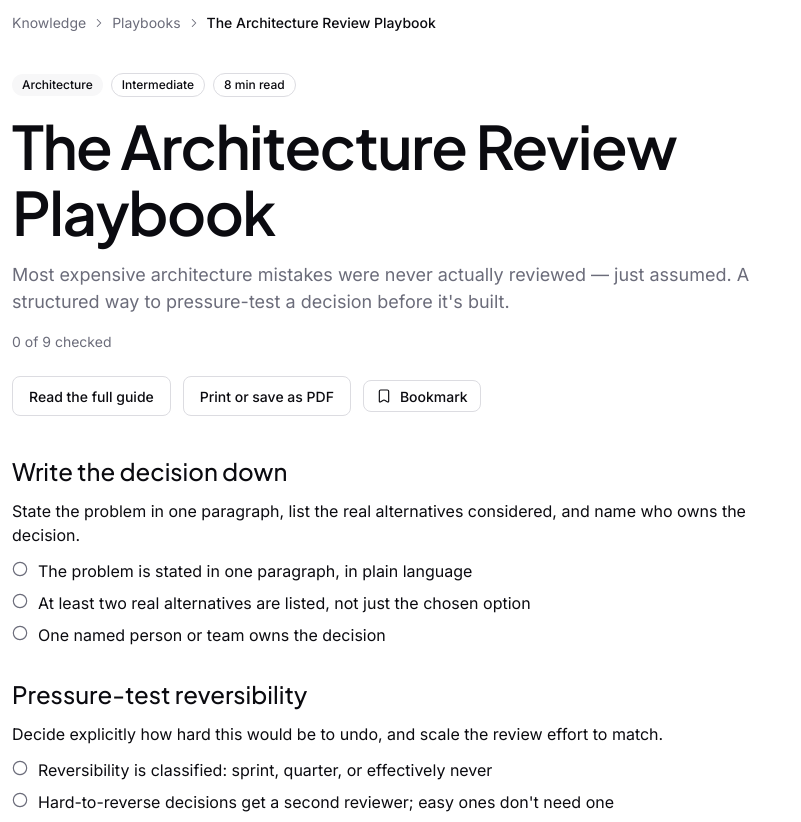
Scenario: KnowledgePlaybookDetail › checks off an item, updates the count, and tracks it
Click the button "The problem is stated in one paragraph, in plain language" at point(396, 571), box [12, 559, 780, 583]
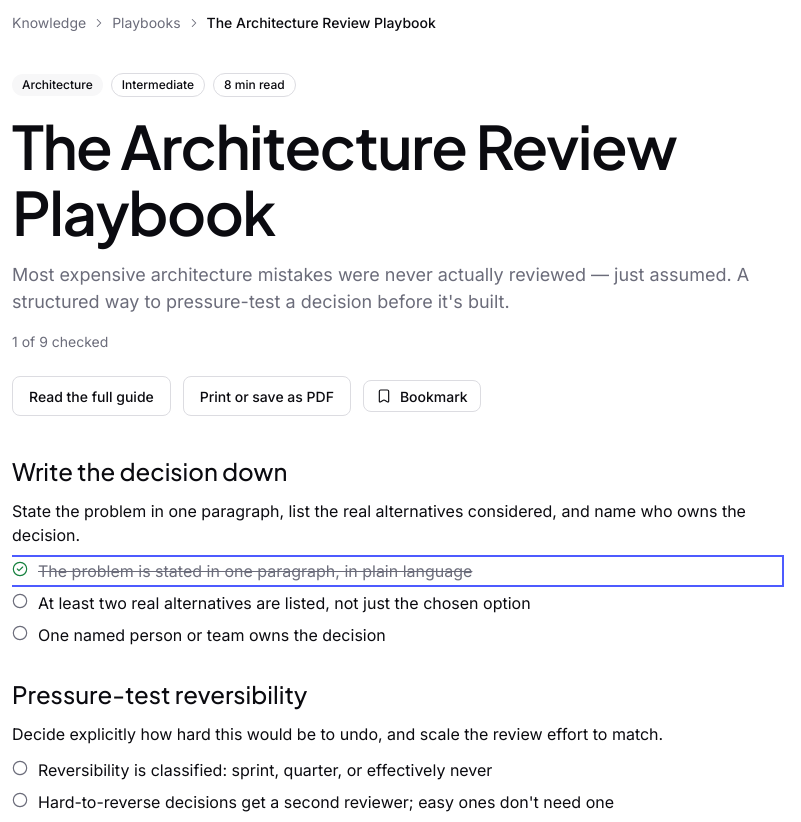
Check: the text "1 of 9 checked" is shown, box [12, 333, 108, 350]
